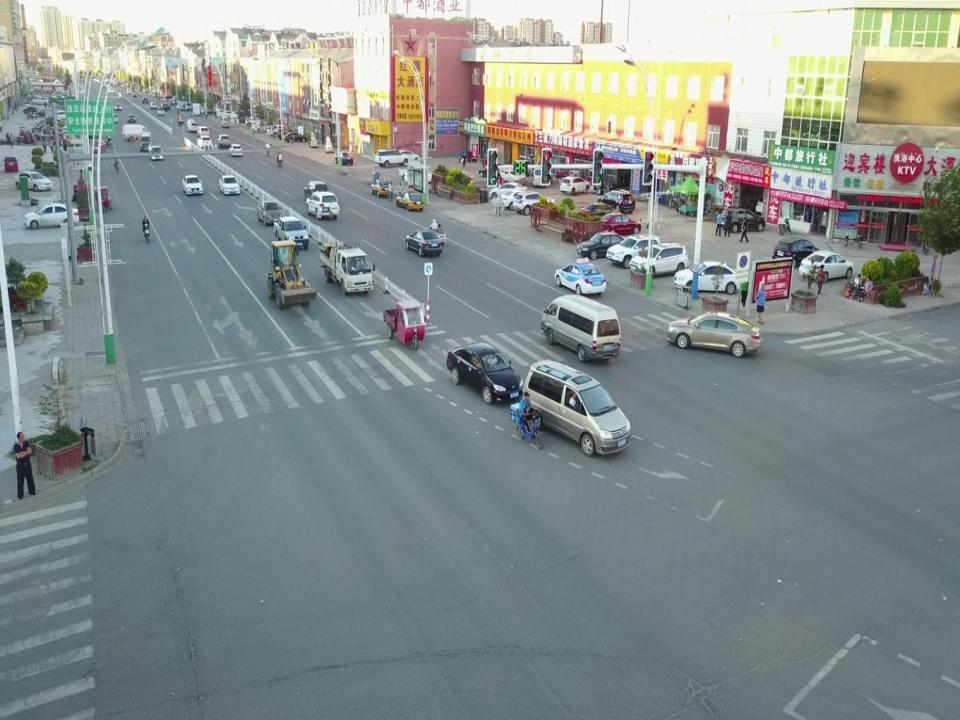car: (447, 342, 522, 404), (665, 312, 762, 358), (630, 242, 690, 280), (675, 261, 739, 294), (606, 232, 662, 268), (554, 259, 606, 295), (800, 250, 854, 280), (22, 203, 79, 229), (772, 236, 818, 267), (577, 231, 625, 259), (721, 207, 766, 232), (405, 229, 441, 258), (516, 191, 556, 217), (598, 212, 642, 235), (599, 189, 636, 214), (306, 192, 340, 219), (578, 202, 618, 223), (256, 199, 284, 225), (14, 172, 52, 191), (374, 148, 410, 168), (488, 182, 526, 200), (396, 189, 424, 211), (391, 146, 421, 166), (500, 189, 532, 207), (302, 180, 330, 200), (560, 176, 589, 195), (404, 168, 436, 184), (219, 174, 241, 197), (181, 173, 204, 195), (372, 178, 392, 198), (755, 196, 772, 216), (478, 164, 501, 178), (334, 150, 353, 166), (196, 134, 213, 150), (4, 156, 19, 173), (87, 138, 105, 152), (148, 147, 164, 162), (284, 133, 307, 143), (139, 134, 151, 153), (216, 134, 232, 148), (252, 122, 270, 134), (274, 127, 292, 138), (229, 143, 242, 158), (230, 109, 246, 120), (197, 126, 210, 138), (246, 118, 259, 128), (222, 109, 236, 118), (217, 109, 231, 118), (186, 118, 197, 129), (189, 121, 199, 133), (126, 113, 137, 123), (114, 103, 123, 110), (151, 100, 158, 109), (125, 88, 134, 95), (182, 103, 192, 109), (164, 91, 171, 98), (157, 106, 162, 115), (142, 96, 148, 103), (165, 101, 171, 108), (162, 103, 166, 110), (132, 91, 136, 96), (170, 97, 174, 102)
truck: (320, 241, 377, 297), (274, 218, 307, 248), (398, 161, 424, 181), (265, 125, 286, 137), (31, 125, 40, 139), (109, 113, 118, 124)
van: (522, 362, 630, 456), (541, 294, 622, 362), (122, 124, 152, 142), (496, 166, 525, 184), (532, 165, 547, 188), (193, 100, 201, 115), (220, 116, 230, 127)
